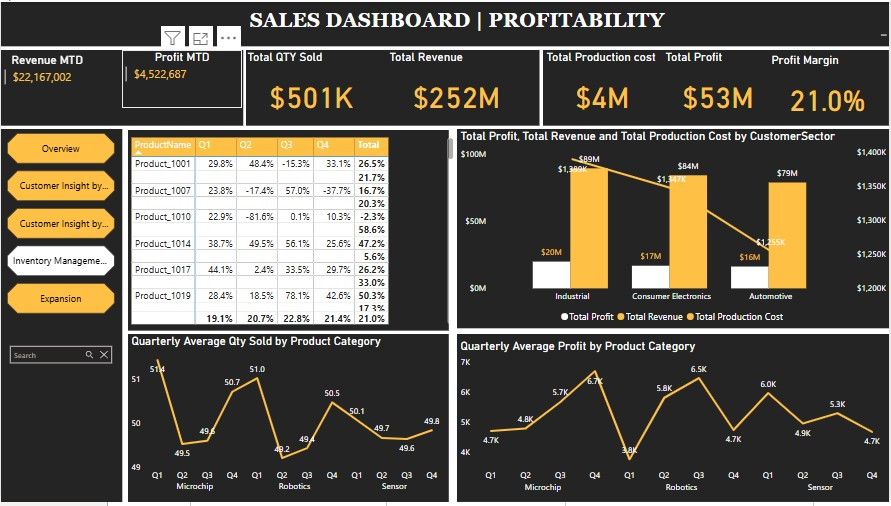

What the dashboard file says about the page in this screenshot:
{"tool":"powerbi","page":{"name":"Inventory Management  & Profitability","canvas":[1280,720],"ordinal":3},"visuals":[{"type":"shape","box":[0,183.1,174.7,537.5],"z":0},{"type":"shape","box":[656.8,478.7,623.2,241.9],"z":1000},{"type":"shape","box":[656.8,183.1,623.2,287.2],"z":2000},{"type":"shape","box":[183.1,478.7,461.9,241.9],"z":3000},{"type":"shape","box":[0,0,1280,63.8],"z":4000},{"type":"shape","box":[0,68.9,349.4,109.2],"z":5000},{"type":"shape","box":[781.1,68.9,498.9,109.2],"z":6000},{"type":"shape","box":[352.8,68.9,423.3,109.2],"z":7000},{"type":"cardVisual","title":"Total QTY Sold","fields":{"Data":["Calculations.Total QTY Sold"]},"box":[349.4,68.9,194.9,109.2],"z":8000},{"type":"cardVisual","title":"Total Revenue","fields":{"Data":["Calculations.Total Revenue"]},"box":[554.3,68.9,203.3,109.2],"z":9000},{"type":"cardVisual","title":"Total Profit","fields":{"Data":["Calculations.Total Profit"]},"box":[952.4,68.9,161.3,109.2],"z":10000},{"type":"cardVisual","title":"Total Production cost","fields":{"Data":["Calculations.Total Production Cost"]},"box":[781.1,68.9,171.3,109.2],"z":11000},{"type":"shape","box":[183.1,184.8,461.9,288.9],"z":12000},{"type":"textbox","title":"TECHTRONIX SALES DASHBOARD | PROFITABILITY","box":[33.1,8.6,1247,44.6],"z":13000},{"type":"multiRowCard","title":"Profit MTD","fields":{"Values":["Calculations.Profit MTD"]},"box":[174.2,69.1,172.8,83.5],"z":14000},{"type":"lineClusteredColumnComboChart","fields":{"Category":["CUSTOMER_DIM.CustomerSector"],"Y":["Calculations.Total Profit","Calculations.Total Revenue"],"Y2":["Calculations.Total Production Cost"]},"box":[656.8,183.1,623.2,288.9],"z":15000},{"type":"lineChart","title":"Quarterly Average Profit by Product Category","fields":{"Y":["Avg(TECHTRONIC_FACT_TABLE.Profit)"],"Category":["PRODUCT_DIM.ProductCategory","Calender_Dim.Quater"]},"box":[656.8,485.5,623.2,235.2],"z":16000},{"type":"lineChart","title":"Quarterly Average Qty Sold by Product Category","fields":{"Y":["Avg(TECHTRONIC_FACT_TABLE.QuantitySold)"],"Category":["PRODUCT_DIM.ProductCategory","Calender_Dim.Quater"]},"box":[183.1,478.7,456.9,241.9],"z":17000},{"type":"pivotTable","fields":{"Rows":["PRODUCT_DIM.ProductName"],"Values":["Calculations.Profit Margin"],"Columns":["Calender_Dim.Quater"]},"box":[182.9,190.1,473.8,279.4],"z":18000},{"type":"textSearchSlicerF85E2E78BE4A4D7D9F99ED75B5D71C85","fields":{"fields":["PRODUCT_DIM.ProductName"]},"box":[2.9,485.3,167,100.8],"z":19000},{"type":"pageNavigator","box":[8.6,188.6,155.5,263.5],"z":20000},{"type":"multiRowCard","title":"Revenue MTD","fields":{"Values":["Calculations.Revenue MTD"]},"box":[0,73.9,132.7,77.3],"z":21000},{"type":"cardVisual","title":"Profit Margin","fields":{"Data":["Calculations.Profit Margin"]},"box":[1104.5,73.4,172.8,109.4],"z":22000}]}

Visuals, with their boxes in screenshot pixels (x1, y1, x2, y2), scaled from the page's 1280x720 canvas onto the 891x506 screenshot:
shape: (left=0, top=129, right=122, bottom=505)
shape: (left=457, top=336, right=890, bottom=505)
shape: (left=457, top=129, right=890, bottom=331)
shape: (left=127, top=336, right=449, bottom=505)
shape: (left=0, top=0, right=890, bottom=45)
shape: (left=0, top=48, right=243, bottom=125)
shape: (left=544, top=48, right=890, bottom=125)
shape: (left=246, top=48, right=540, bottom=125)
"Total QTY Sold" cardVisual: (left=243, top=48, right=379, bottom=125)
"Total Revenue" cardVisual: (left=386, top=48, right=527, bottom=125)
"Total Profit" cardVisual: (left=663, top=48, right=775, bottom=125)
"Total Production cost" cardVisual: (left=544, top=48, right=663, bottom=125)
shape: (left=127, top=130, right=449, bottom=333)
"TECHTRONIX SALES DASHBOARD | PROFITABILITY" textbox: (left=23, top=6, right=890, bottom=37)
"Profit MTD" multiRowCard: (left=121, top=49, right=242, bottom=107)
lineClusteredColumnComboChart - CUSTOMER_DIM.CustomerSector x Calculations.Total Profit: (left=457, top=129, right=890, bottom=332)
"Quarterly Average Profit by Product Category" lineChart: (left=457, top=341, right=890, bottom=505)
"Quarterly Average Qty Sold by Product Category" lineChart: (left=127, top=336, right=446, bottom=505)
pivotTable - PRODUCT_DIM.ProductName x Calculations.Profit Margin: (left=127, top=134, right=457, bottom=330)
textSearchSlicerF85E2E78BE4A4D7D9F99ED75B5D71C85 - PRODUCT_DIM.ProductName: (left=2, top=341, right=118, bottom=412)
pageNavigator: (left=6, top=133, right=114, bottom=318)
"Revenue MTD" multiRowCard: (left=0, top=52, right=92, bottom=106)
"Profit Margin" cardVisual: (left=769, top=52, right=889, bottom=128)
